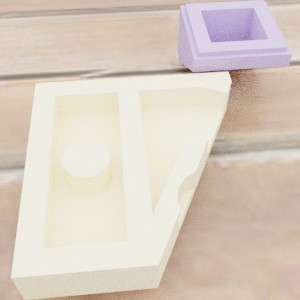lego: (11, 71, 231, 300), (177, 0, 292, 71)
